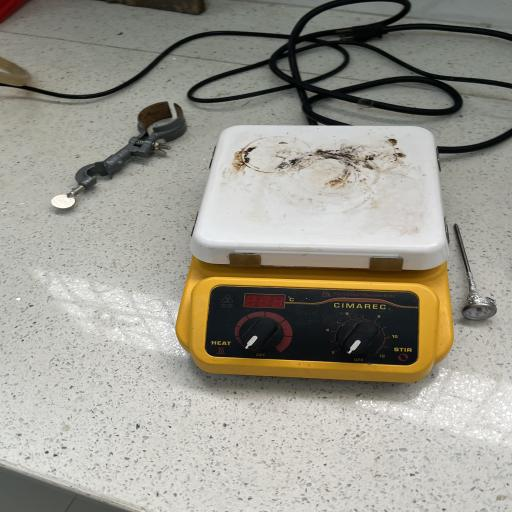Plancha_Agitacion_Cimarec: (162, 111, 472, 405)
